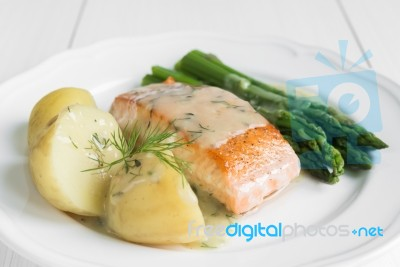boiled potatoes: (26, 112, 186, 217)
